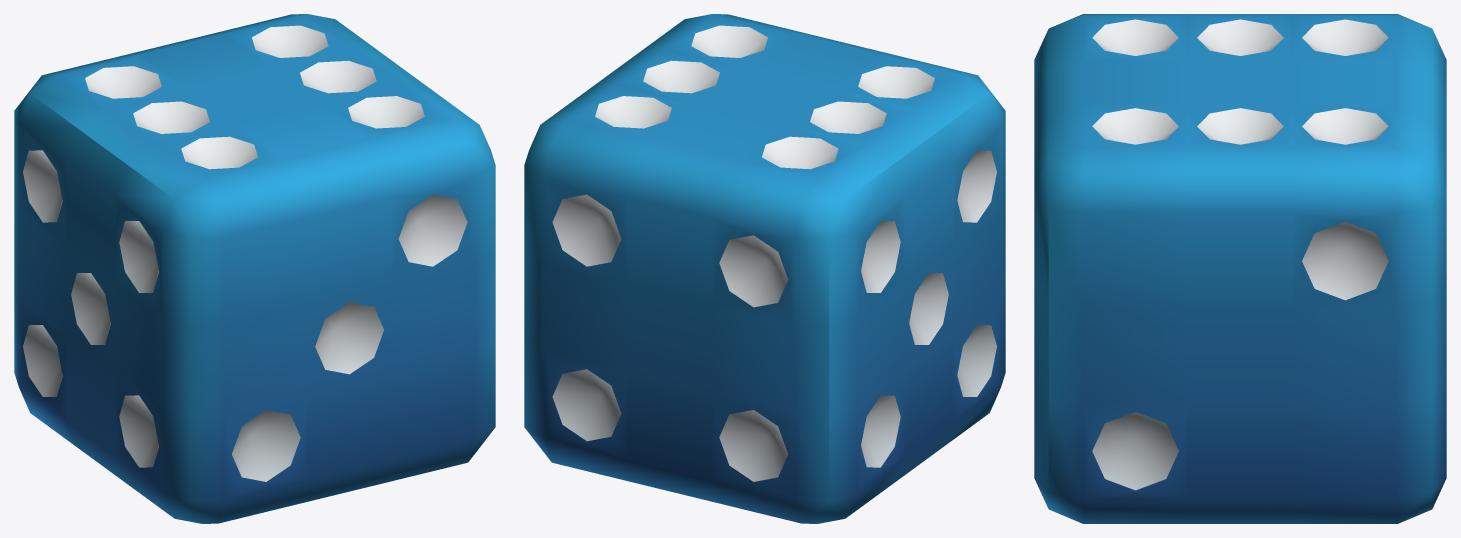
File: d6-a-blue.glb
The picture shows the model from 3 angles, left to right: view 1: azimuth 30°, elevation 25°; view 2: azimuth 150°, elevation 25°; view 3: azimuth 270°, elevation 25°; orthographic projection. The views are drawn at different scales.
Parts seen in each view (by area): view 1: D6_A_blue; view 2: D6_A_blue; view 3: D6_A_blue.
Boxes of the visible parts, bbox=[...] form: D6_A_blue: bbox=[14, 14, 495, 523]; D6_A_blue: bbox=[524, 14, 1005, 523]; D6_A_blue: bbox=[1034, 14, 1446, 523].
Bounding box in the file's own units: 0.75 × 0.75 × 0.75.
Materials: 1 (1 with a texture image).
